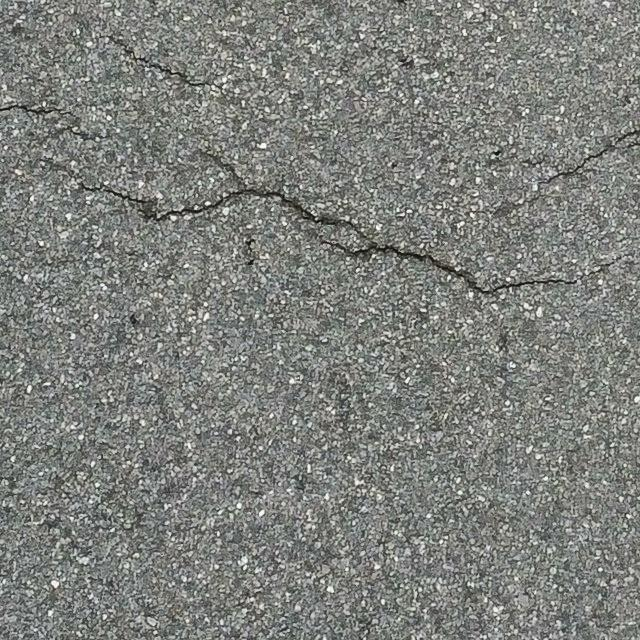TransverseCrack: (48, 161, 640, 290), (530, 126, 640, 187), (1, 102, 108, 143)
